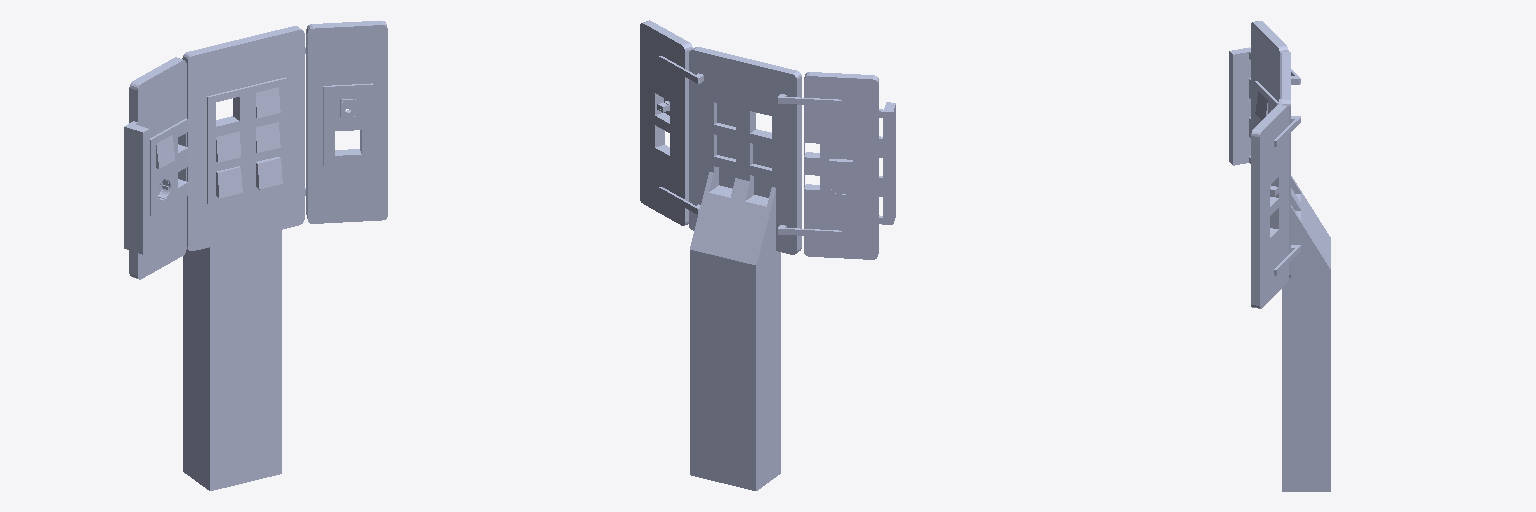
robot.urdf — panel:
<?xml version="1.0" encoding="utf-8"?>
<!-- This URDF was automatically created by SolidWorks to URDF Exporter! Originally created by [author] ([email redacted]) 
     Commit Version: 1.6.0-4-g7f85cfe  Build Version: 1.6.7995.38578
     For more information, please see http://wiki.ros.org/sw_urdf_exporter -->
<robot
  name="panel">


  <link name="world"> </link>
  
  <joint name="dummy_joint" type="fixed">
    <origin xyz="0 0 -0.23" rpy="0 0 0"/>
    <parent link="world"/>
    <child link="base_link"/>
  </joint>
  
  
  <link
    name="base_link">
    <inertial>
      <origin
        xyz="0.1622376292296 0.672269750597424 0.645926380012955"
        rpy="0 0 0" />
      <mass
        value="13.2398333468078" />
      <inertia
        ixx="0.563223395640389"
        ixy="1.43503970980149E-07"
        ixz="0.000789850468301527"
        iyy="0.0430934733295071"
        iyz="-0.0263104055796576"
        izz="0.584931485918816" />
    </inertial>
    <visual>
      <origin
        xyz="0 0 0"
        rpy="0 0 0" />
      <geometry>
        <mesh
          filename="package://panel/meshes/base_link.STL" />
      </geometry>
      <material
        name="">
        <color
          rgba="0.792156862745098 0.819607843137255 0.933333333333333 1" />
      </material>
    </visual>
    <collision>
      <origin
        xyz="0 0 0"
        rpy="0 0 0" />
      <geometry>
        <mesh
          filename="package://panel/meshes/base_link.STL" />
      </geometry>
    </collision>
  </link>
</robot>

--- Facts derived from the render (not from the file) ---
Views: 3 orthographic renders of the robot side by side, from view 1: azimuth 30°, elevation 25°; view 2: azimuth 150°, elevation 25°; view 3: azimuth 270°, elevation 25°.
Robot: panel — 2 links, 1 joints (1 fixed); root link world; default pose: every joint at zero.
Links seen in each view (by area): view 1: base_link; view 2: base_link; view 3: base_link.
Link boxes in pixels (x1,y1,x2,y2): base_link: (124,21,387,490); base_link: (640,20,895,490); base_link: (1229,21,1330,491).
Size in the robot's own frame: 0.5749 by 0.2065 by 0.9 metres.
Meshes: 1 distinct files referenced, 1 mesh visuals loaded (1 binary STL).